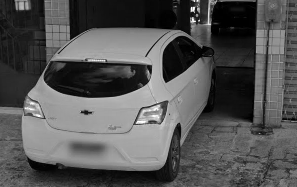car: (19, 26, 218, 182)
